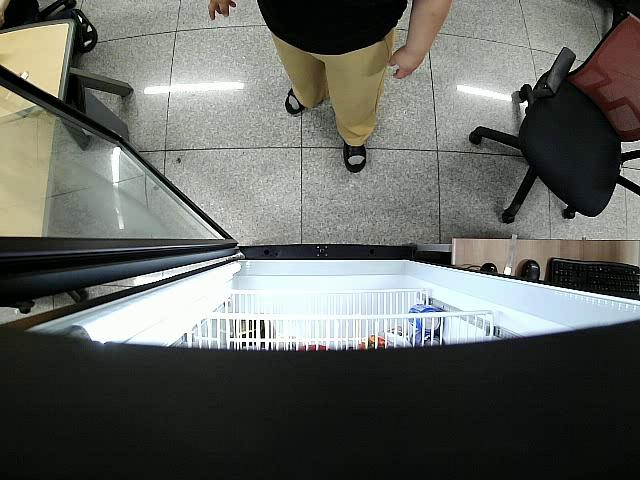00_hand: (389, 45, 422, 78), (207, 0, 236, 21)
